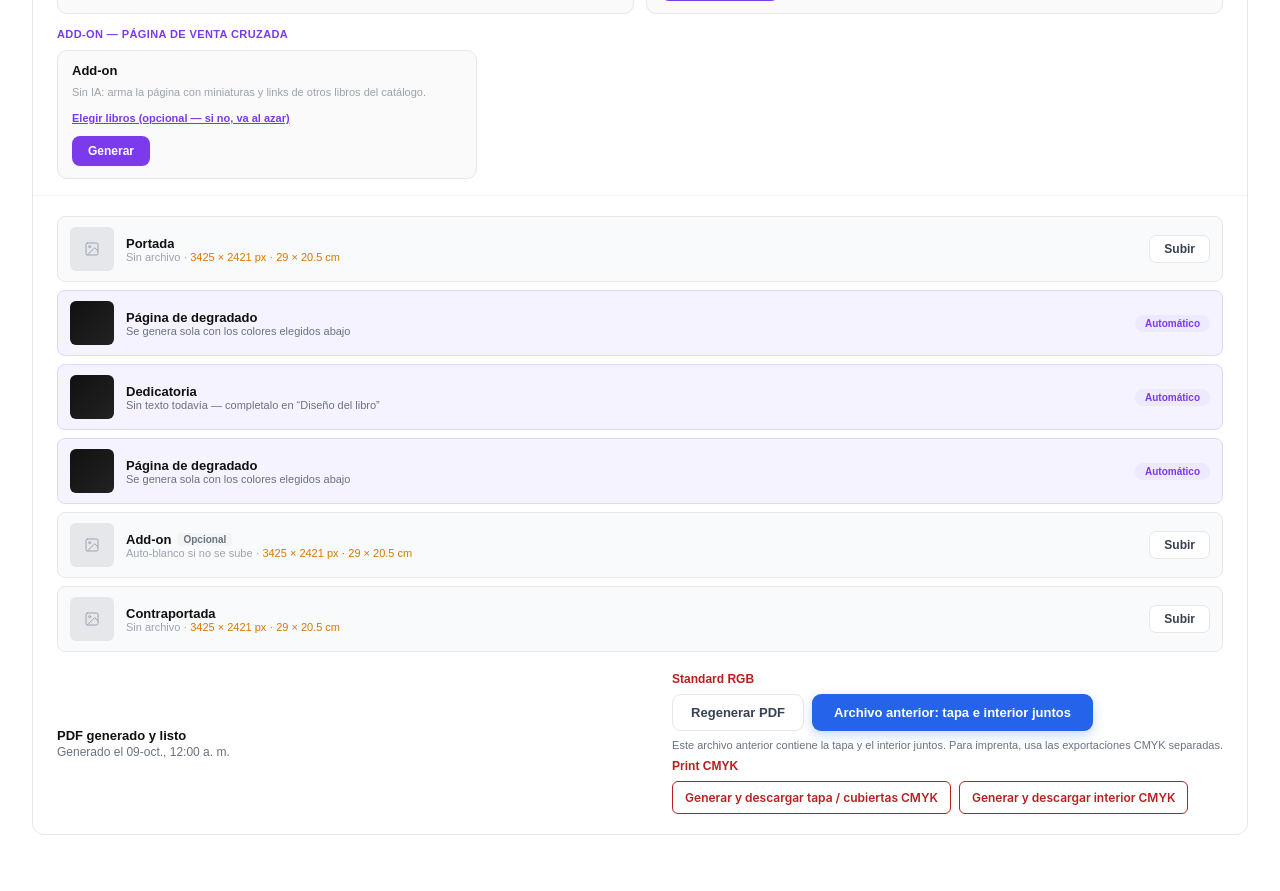
Scenario: order print output controls › groups standard and CMYK downloads and identifies a legacy combined PDF explicitly
(page scrolled)
Expected: the text "Standard RGB" is shown, 672,672 -> 754,686
Expected: the text "Print CMYK" is shown, 672,759 -> 738,773
What coordinates should you click on to do the following:
click the button "Generar y descargar tapa / cubiertas CMYK"
I would click on:
 (812, 798)
Its box is 672,781 -> 951,814.
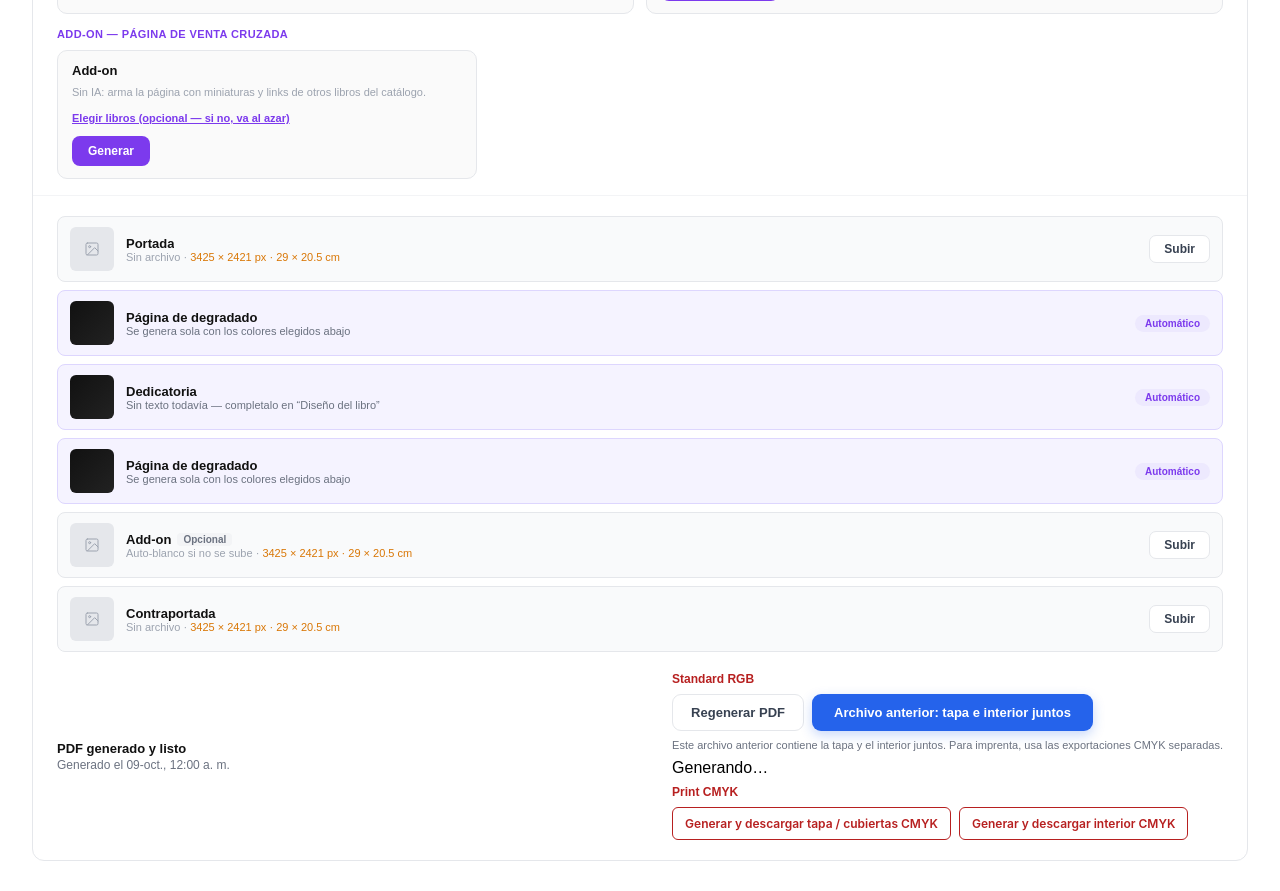
Expected: the text "Generando…" is shown, 672,759 -> 768,776
Expected: the button "Generar y descargar tapa / cubiertas CMYK" is disabled, 672,807 -> 951,840
Expected: the button "Generar y descargar interior CMYK" is disabled, 959,807 -> 1188,840
